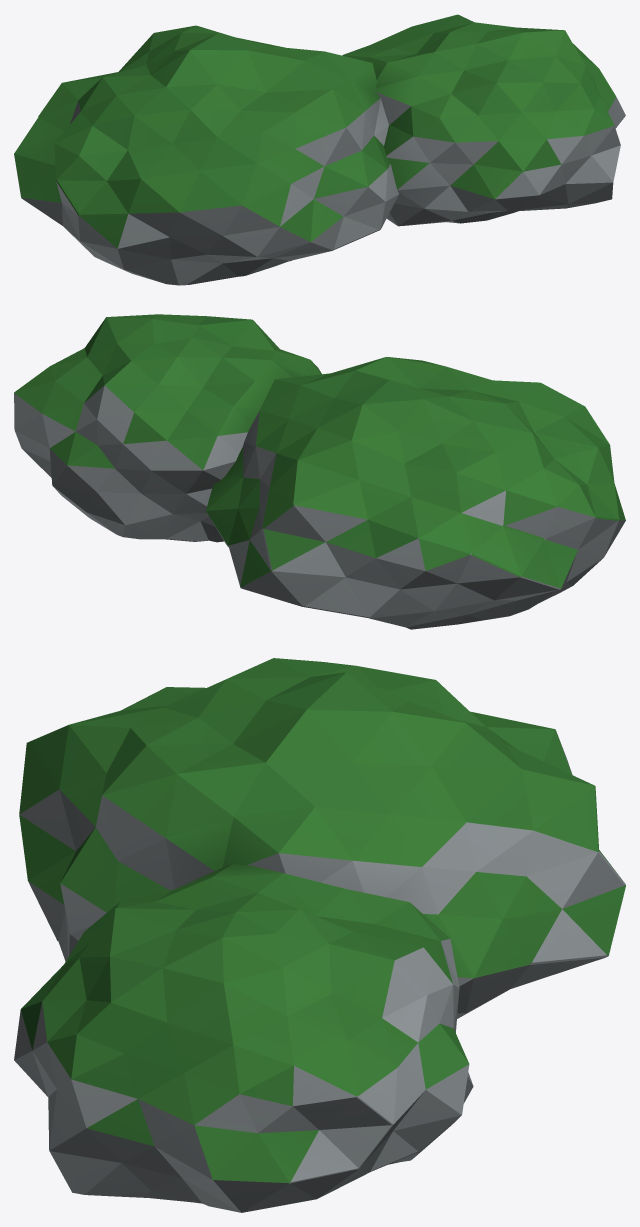
File: rock_mossy_b.glb
3 views of the same model, one above another, from view 1: azimuth 30°, elevation 25°; view 2: azimuth 150°, elevation 25°; view 3: azimuth 270°, elevation 25° (orthographic). The views are drawn at different scales.
Size of the model in its own units: 3.17 by 0.9359 by 1.97.
